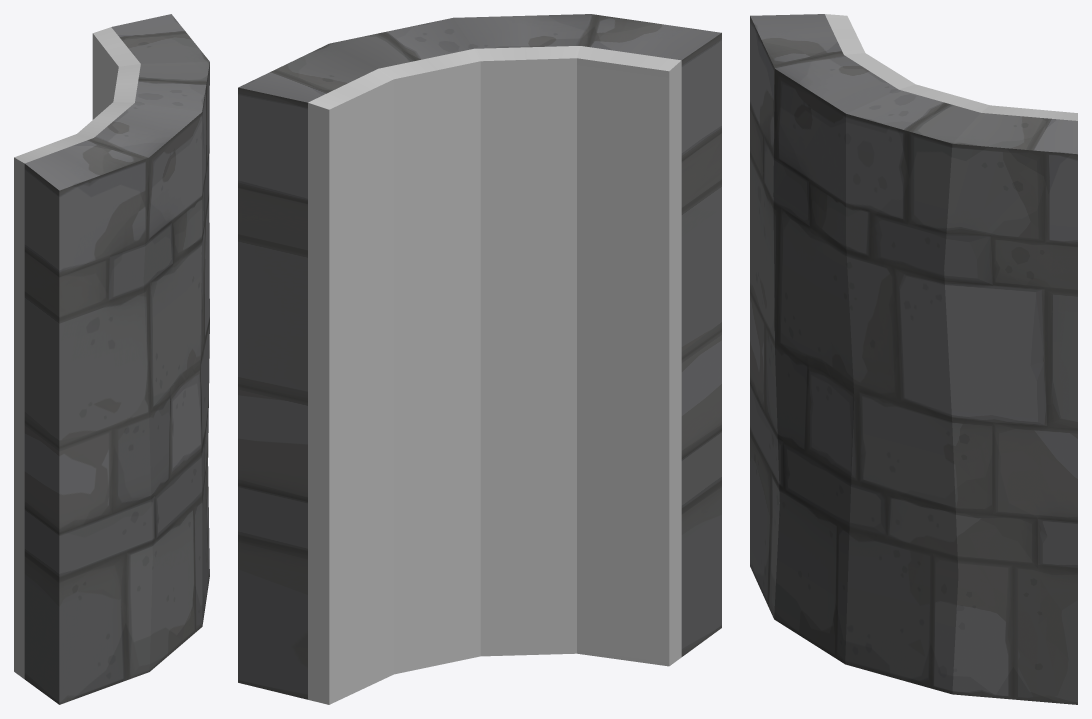
The model's file is SM_Bld_Wall_L_Curve_02.fbx.
The picture shows the model from 3 angles, left to right: view 1: azimuth 30°, elevation 25°; view 2: azimuth 150°, elevation 25°; view 3: azimuth 270°, elevation 25°; orthographic projection. The views are drawn at different scales.
Visible parts, largest first — view 1: SM_Bld_Wall_L_Curve_02; view 2: SM_Bld_Wall_L_Curve_02; view 3: SM_Bld_Wall_L_Curve_02.
Part boxes in pixels (left/top/right/bottom): SM_Bld_Wall_L_Curve_02: left=14, top=14, right=209, bottom=704; SM_Bld_Wall_L_Curve_02: left=238, top=14, right=721, bottom=704; SM_Bld_Wall_L_Curve_02: left=750, top=14, right=1077, bottom=704.
Bounding box in the file's own units: 324 × 602 × 324.
